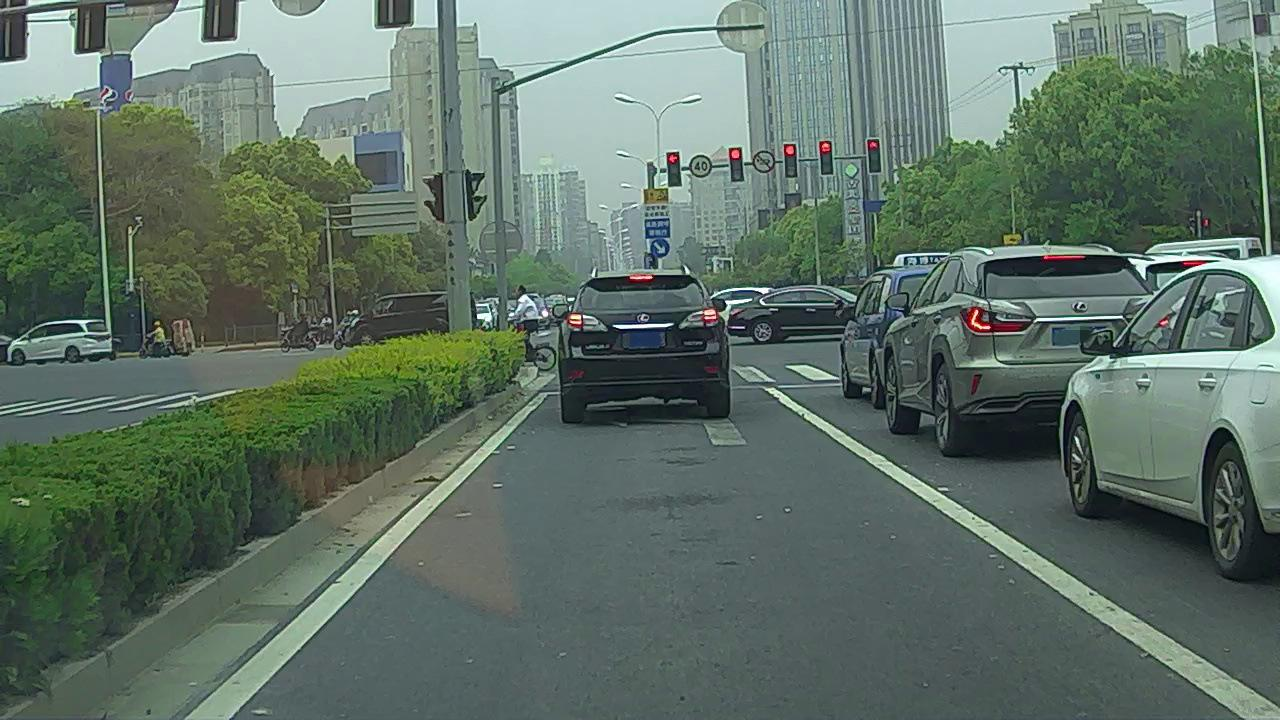traffic_light: (666, 152, 681, 187), (729, 148, 744, 181), (784, 144, 797, 178), (820, 141, 833, 175), (867, 139, 880, 172)
